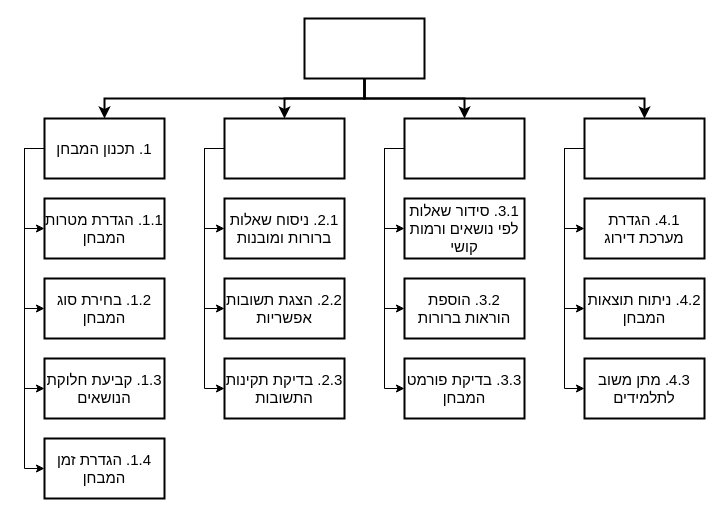
Some shapes in this 723 by 516 pixel diagram are drawn without their labels. The centre of each missing label's shape, as x and y in pixels:
2. כתיבת שאלות: pixel 284 148
3. הרכבת המבחן: pixel 464 148
4. הערכה וניתוח: pixel 644 148
כתיבת מבחן: pixel 364 48
